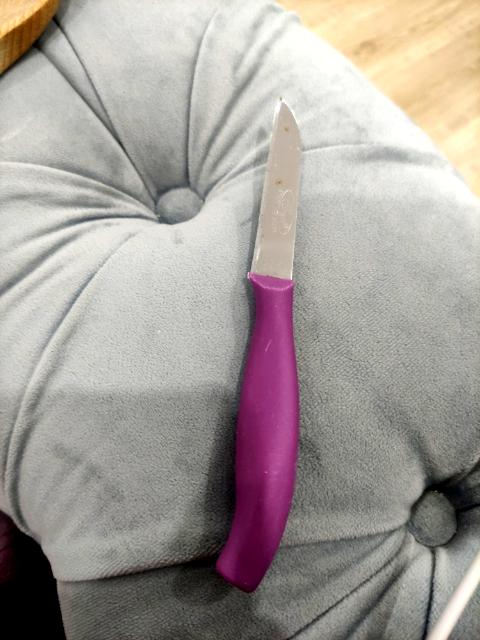Knife: (217, 102, 300, 591)
